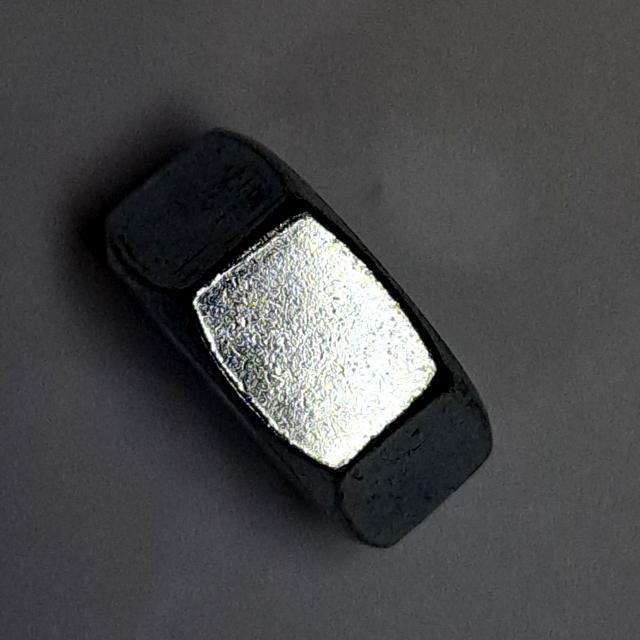Side_Excellent: (94, 111, 516, 568)
